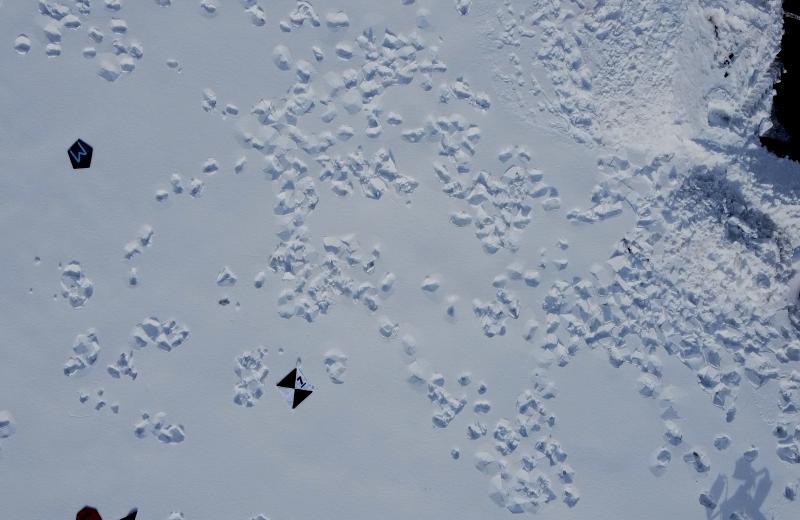Octagon: (71, 505, 106, 520)
Pentagon: (65, 137, 97, 173)
